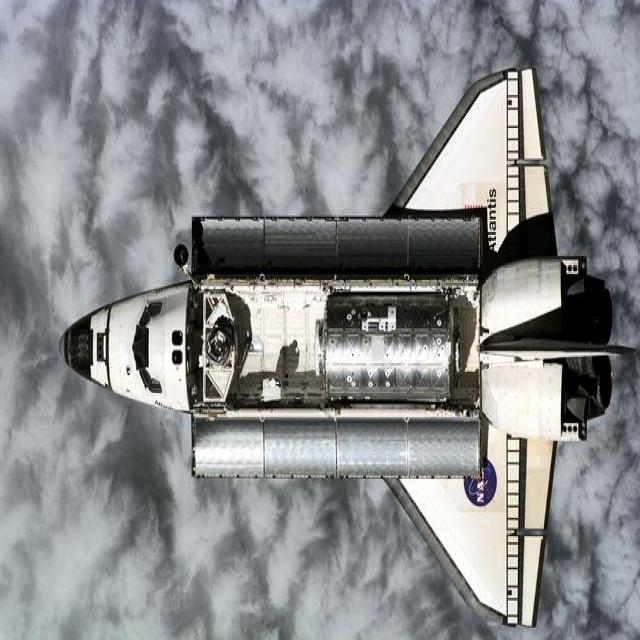medium_debris: (61, 68, 629, 626)
